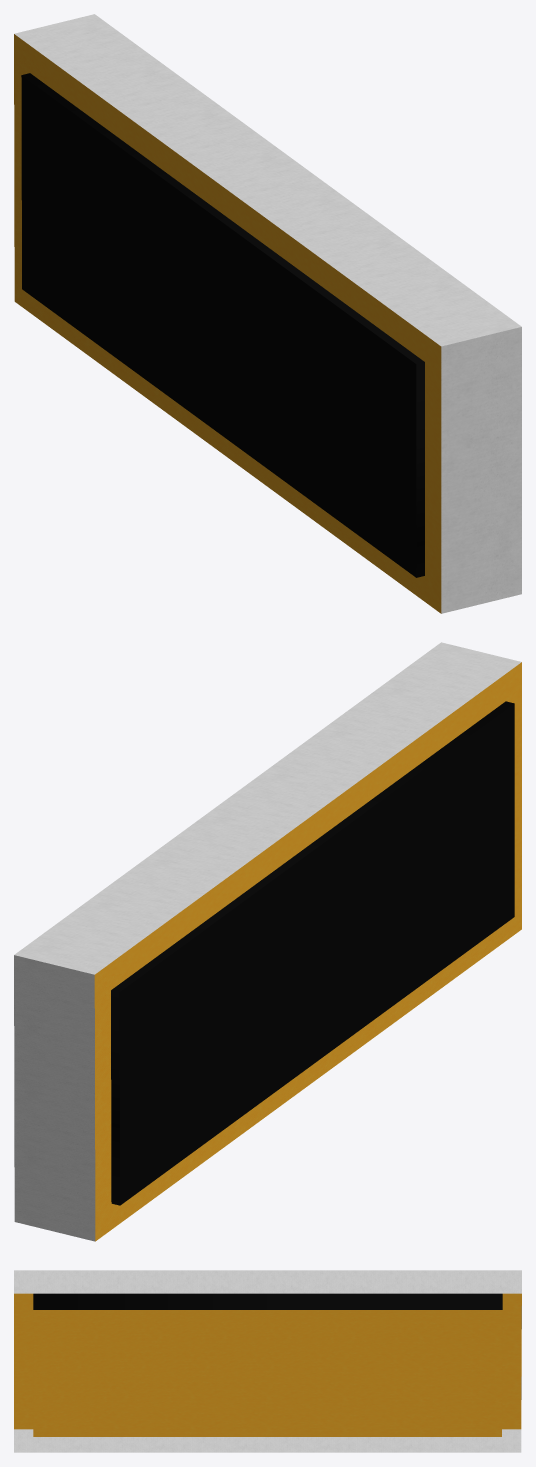
The model's file is Timer.fbx.
The picture shows the model from 3 angles, top to bottom: view 1: azimuth 30°, elevation 25°; view 2: azimuth 150°, elevation 25°; view 3: azimuth 270°, elevation 25°; orthographic projection. The views are drawn at different scales.
Parts seen in each view (by area): view 1: Timer; view 2: Timer; view 3: Timer.
Boxes of the visible parts, x1,y1,x2,y2 form: Timer: (14,14,521,613); Timer: (14,642,521,1241); Timer: (14,1270,521,1452).
Bounding box in the file's own units: 16.29 × 46.54 × 135.
